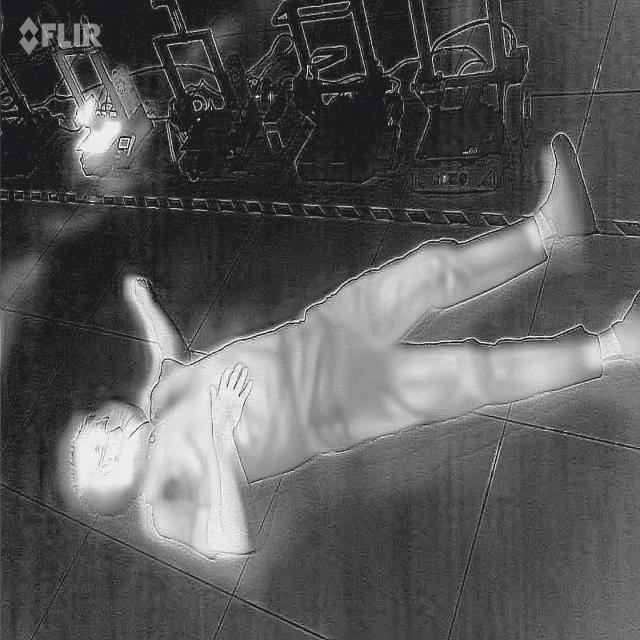Victim: (59, 122, 639, 564)
